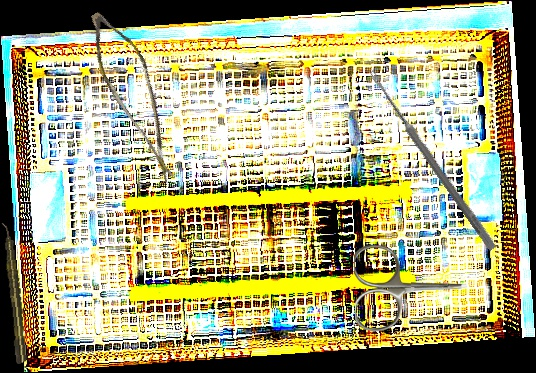Handpiece: (0, 221, 29, 365)
Iris Scissors: (353, 242, 469, 333)
Micro Scissor: (63, 5, 212, 186)
Surgical Spoon: (365, 68, 499, 252)
